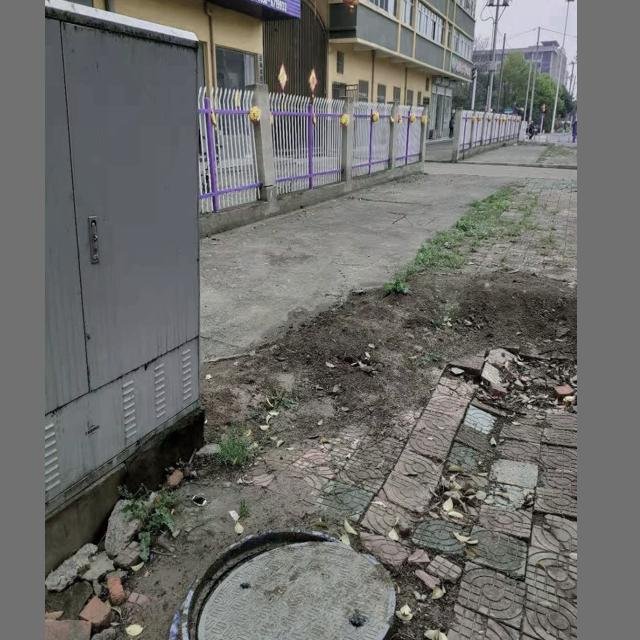uncovered: (186, 529, 395, 640)
